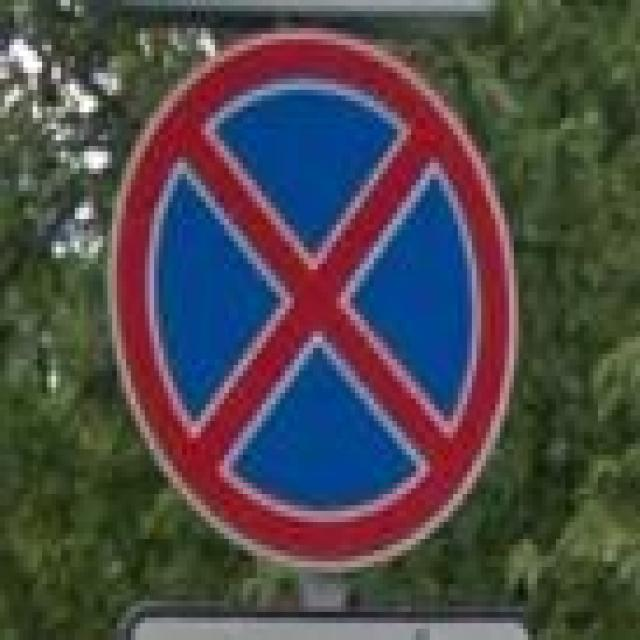Zakaz zatrzymywania sie: (103, 28, 523, 578)
